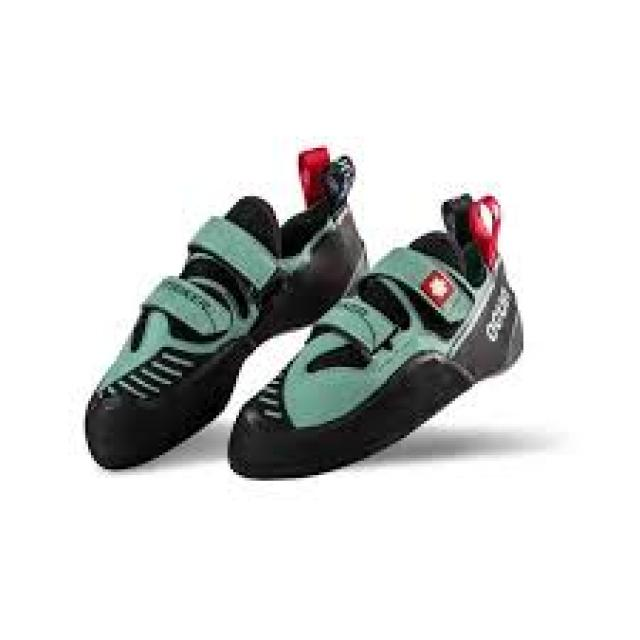climbing-shoes: (81, 145, 366, 474), (227, 193, 528, 481)
